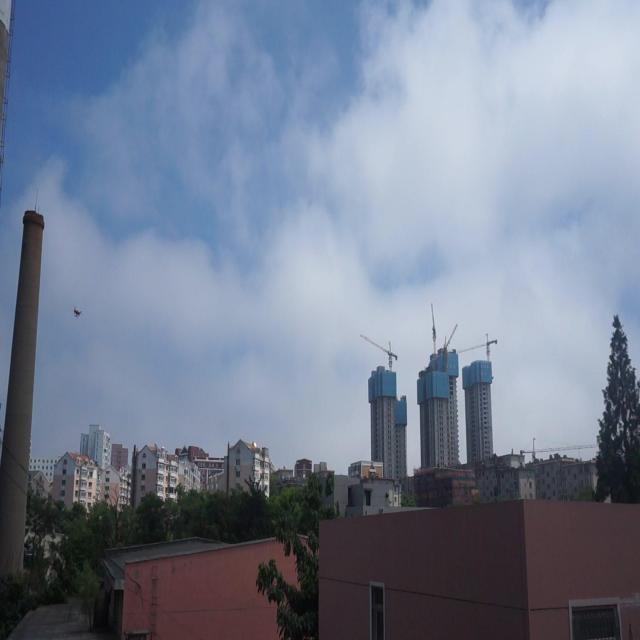UAV: (72, 306, 82, 320)
